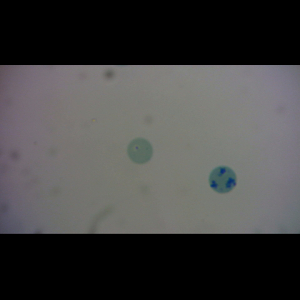aggregate reticulocyte: (208, 165, 238, 194)
erythrocyte: (127, 137, 153, 165)
